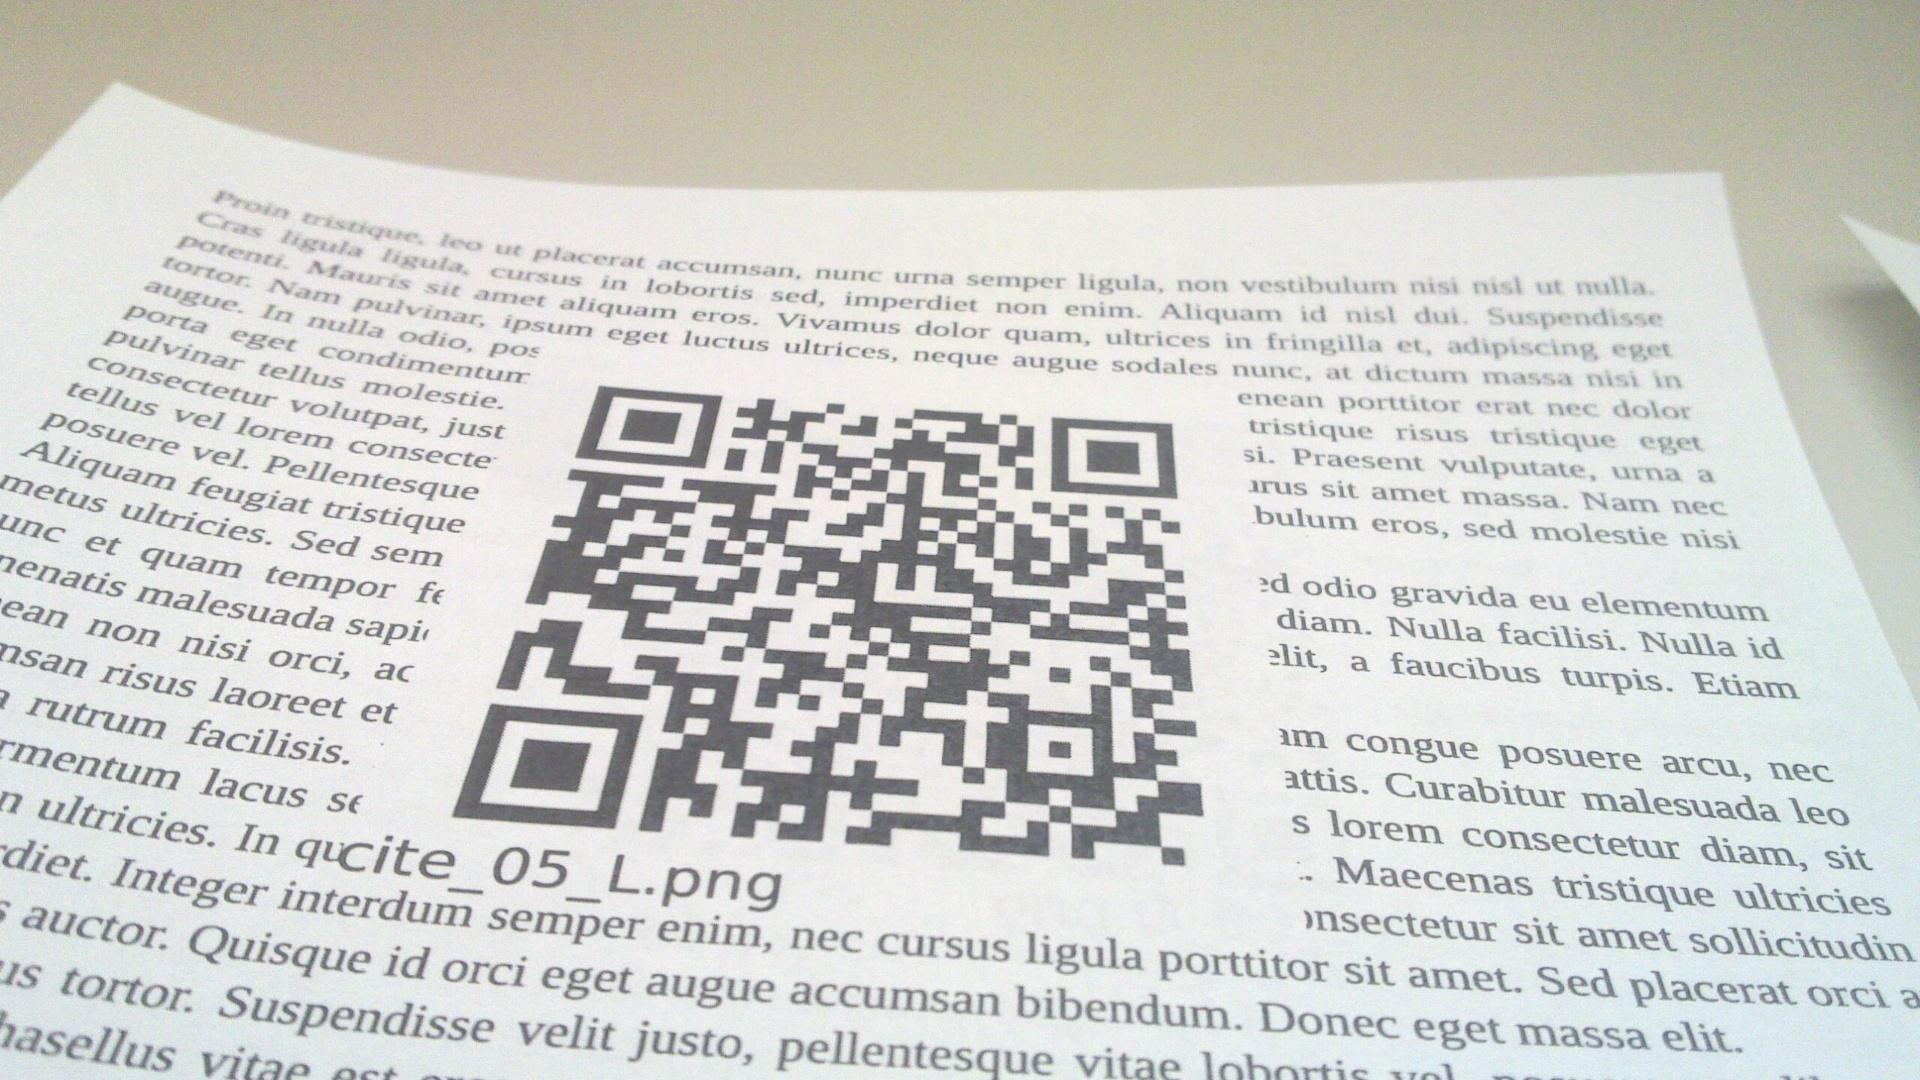Finder pattern: (443, 707, 649, 833), (578, 381, 727, 472), (1040, 415, 1189, 502)
